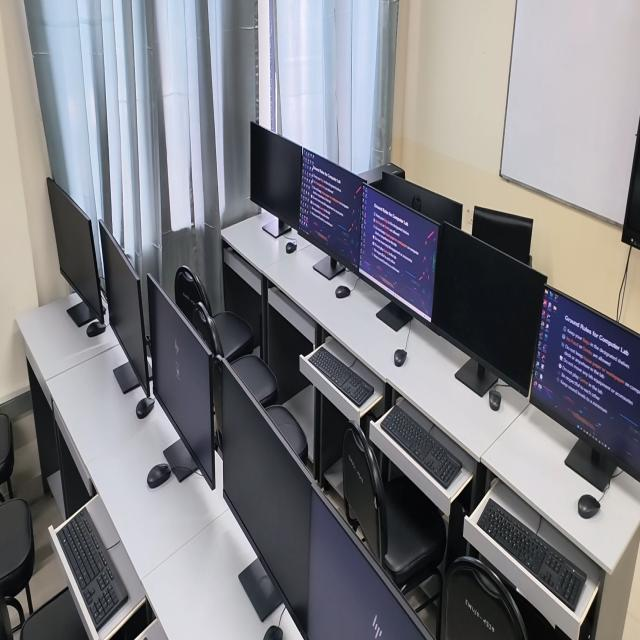Chair: (342, 423, 445, 588), (192, 302, 278, 407), (174, 266, 255, 362), (441, 556, 527, 639), (0, 498, 35, 629), (472, 206, 533, 266), (266, 405, 307, 460), (0, 413, 14, 498)
Digital board: (621, 121, 640, 249)
Keyboard: (477, 499, 586, 610), (58, 509, 128, 630), (381, 405, 461, 488), (309, 347, 374, 407)
Monitor: (220, 361, 313, 637), (530, 285, 640, 481), (428, 222, 547, 395), (308, 491, 424, 639), (147, 276, 216, 489), (360, 185, 439, 321), (99, 220, 151, 396), (47, 178, 105, 327), (299, 148, 362, 268), (251, 123, 301, 229), (381, 172, 462, 228)
Mouse: (147, 463, 171, 488), (578, 494, 600, 519), (136, 396, 155, 418), (86, 322, 106, 337), (263, 625, 283, 639), (489, 389, 501, 411), (394, 349, 407, 366), (335, 285, 350, 298), (285, 239, 297, 253)
